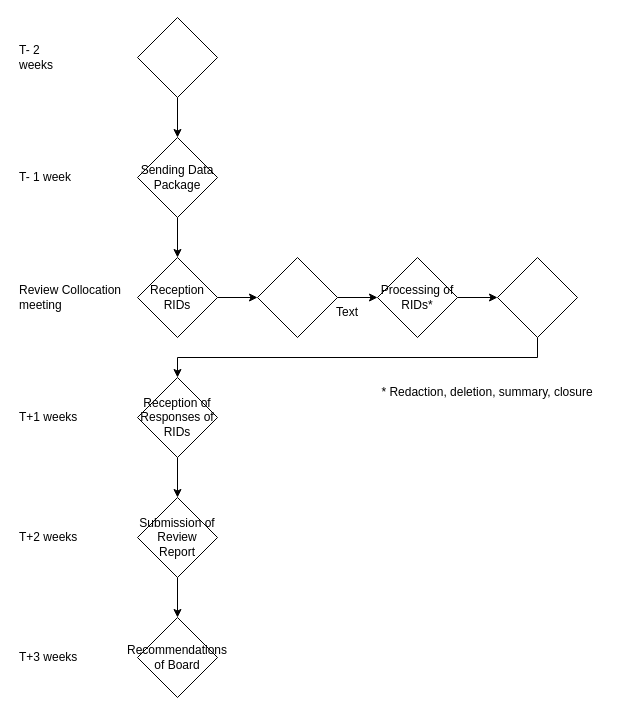
The diagram is 629 pixels wide and 715 high, and some of its shapes have lost their labels. Each missing label, with the centre of its shape:
"Creation of RIDs" goes at point 297,297.
"Sending Organization Note" goes at point 177,57.
"Submission of RIDs" goes at point 537,297.
